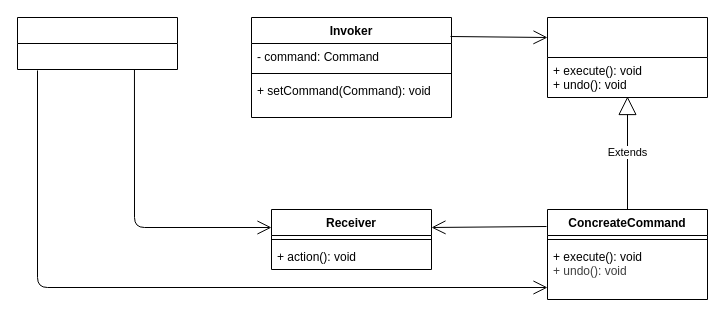
Some shapes in this 725 by 320 pixel diagram are drawn without their labels. Here are the shapes that lost their labels. From the top down, the box of each, then its label:
(16, 16, 178, 70): Client
(546, 16, 708, 98): <<Interface>> Command
